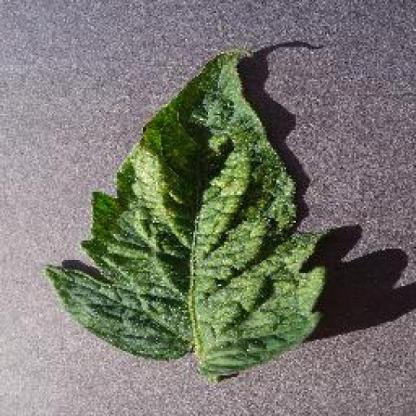Tomato_Spider_Mites: (46, 50, 326, 373)
